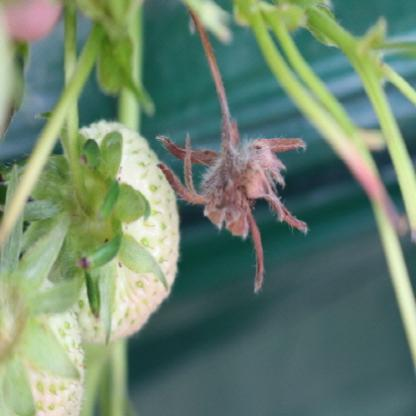Strawberry_Gray_Mold: (156, 108, 310, 295)
